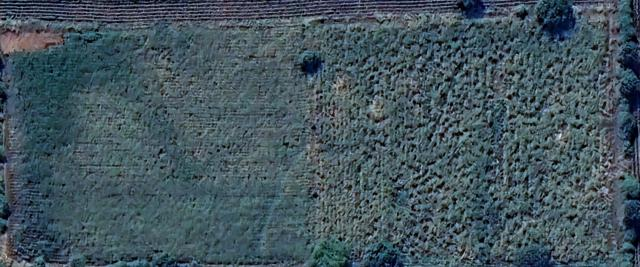Farms: (11, 17, 612, 262)
